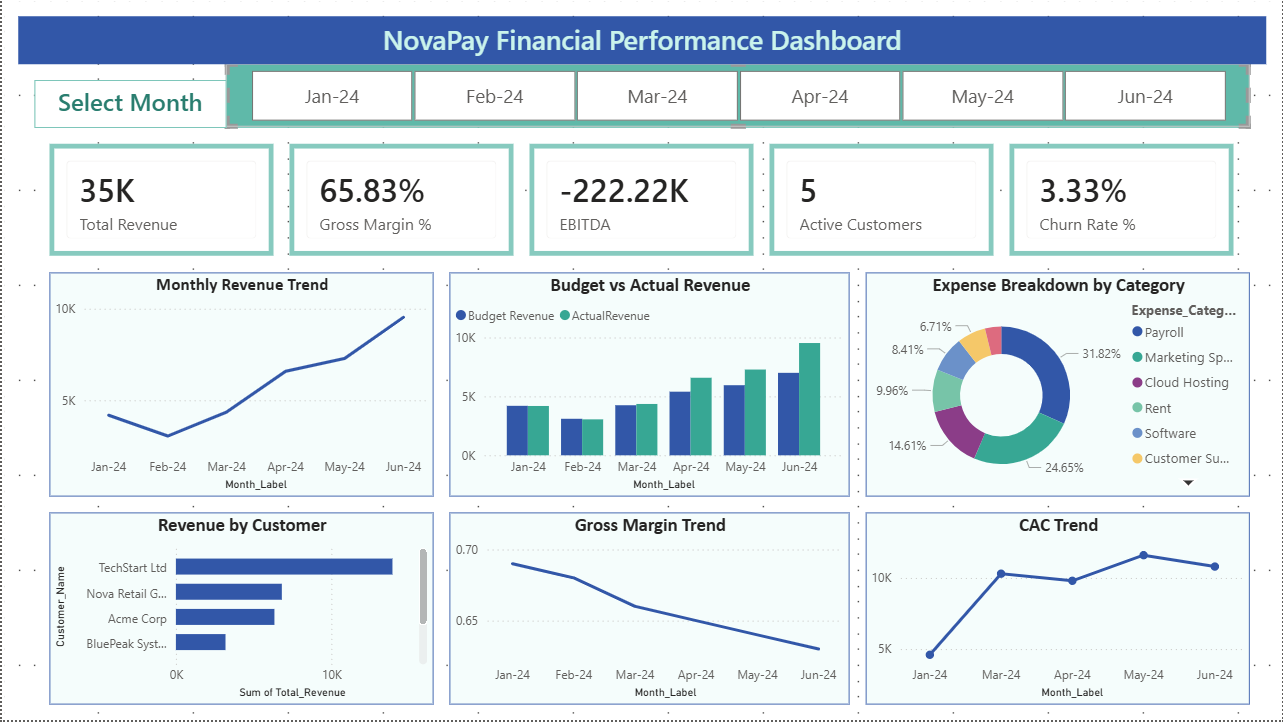

What the dashboard file says about the page in this screenshot:
{"tool":"powerbi","page":{"name":"Executive Dashboard","canvas":[1280,720],"ordinal":0},"visuals":[{"type":"slicer","fields":{"Values":["tblDate.Month_Label"]},"box":[224,64,1024,64],"z":0},{"type":"cardVisual","fields":{"Data":["Monthly_Summary.Total Revenue"]},"box":[48,144,224,112],"z":1000},{"type":"cardVisual","fields":{"Data":["Monthly_Summary.Gross Margin %"]},"box":[288,144,224,112],"z":2000},{"type":"cardVisual","fields":{"Data":["Monthly_Summary.Total EBITDA"]},"box":[528,144,224,112],"z":3000},{"type":"cardVisual","fields":{"Data":["tblKPI.Active Customers KPI"]},"box":[768,144,224,112],"z":4000},{"type":"cardVisual","fields":{"Data":["tblKPI.Churn Rate %"]},"box":[1008,144,224,112],"z":5000},{"type":"lineChart","title":"Monthly Revenue Trend","fields":{"Category":["tblDate.Month_Label"],"Y":["Sum(Monthly_Summary.Actual_Revenue)"]},"box":[48,272,384,224],"z":6000},{"type":"clusteredColumnChart","title":"Budget vs Actual Revenue","fields":{"Category":["tblDate.Month_Label"],"Y":["Sum(Budget_vs_Actual.Budget_Revenue)","Sum(Budget_vs_Actual.Actual_Revenue)"]},"box":[448,272,400,224],"z":7000},{"type":"donutChart","title":"Expense Breakdown by Category","fields":{"Category":["tblExpenses.Expense_Category"],"Y":["Sum(tblExpenses.Actual_Expense)"]},"box":[864,272,384,224],"z":8000},{"type":"barChart","title":"Revenue by Customer","fields":{"Category":["tblCustomers.Customer_Name"],"Y":["Sum(tblRevenue.Total_Revenue)"]},"box":[48,512,384,192],"z":9000},{"type":"lineChart","title":"Gross Margin Trend","fields":{"Category":["tblDate.Month_Label"],"Y":["Avg(tblKPI.Gross_Margin)"]},"box":[448,512,400,192],"z":10000},{"type":"lineChart","title":"CAC Trend","fields":{"Category":["tblDate.Month_Label"],"Y":["Avg(tblKPI.CAC)"]},"box":[864,512,384,192],"z":11000},{"type":"textbox","box":[32,80,192,48],"z":12000},{"type":"textbox","box":[16,16,1248,48],"z":13000}]}

Visuals, with their boxes in screenshot pixels (x1, y1, x2, y2), scaled from the page's 1280x720 canvas onto the 1283x722 screenshot:
slicer - tblDate.Month_Label: 225/64/1251/128
cardVisual - Monthly_Summary.Total Revenue: 48/144/273/257
cardVisual - Monthly_Summary.Gross Margin %: 289/144/513/257
cardVisual - Monthly_Summary.Total EBITDA: 529/144/754/257
cardVisual - tblKPI.Active Customers KPI: 770/144/994/257
cardVisual - tblKPI.Churn Rate %: 1010/144/1235/257
"Monthly Revenue Trend" lineChart: 48/273/433/497
"Budget vs Actual Revenue" clusteredColumnChart: 449/273/850/497
"Expense Breakdown by Category" donutChart: 866/273/1251/497
"Revenue by Customer" barChart: 48/513/433/706
"Gross Margin Trend" lineChart: 449/513/850/706
"CAC Trend" lineChart: 866/513/1251/706
textbox: 32/80/225/128
textbox: 16/16/1267/64
